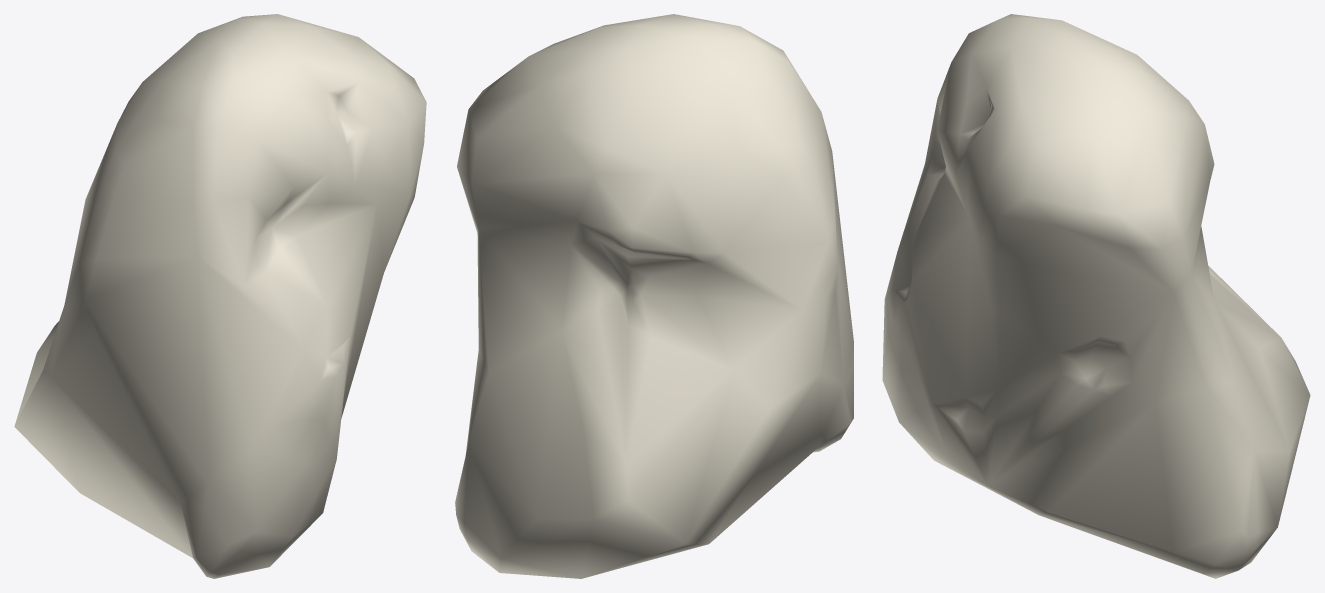
The picture shows the model from 3 angles, left to right: view 1: azimuth 30°, elevation 25°; view 2: azimuth 150°, elevation 25°; view 3: azimuth 270°, elevation 25°; orthographic projection. The views are drawn at different scales.
Parts seen in each view (by area): view 1: ZA_2f20a3e66514e90d; view 2: ZA_2f20a3e66514e90d; view 3: ZA_2f20a3e66514e90d.
Boxes of the visible parts, x1,y1,x2,y2 form: ZA_2f20a3e66514e90d: (14, 14, 426, 578); ZA_2f20a3e66514e90d: (455, 14, 853, 578); ZA_2f20a3e66514e90d: (882, 14, 1310, 578).
Size of the model in its own units: 0.0166 by 0.0234 by 0.018.
